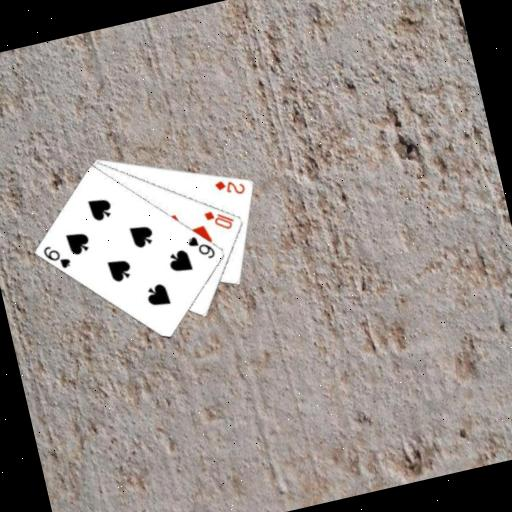10D: (201, 204, 238, 236)
2D: (210, 172, 248, 201)
6S: (183, 229, 218, 265), (39, 239, 74, 275)
